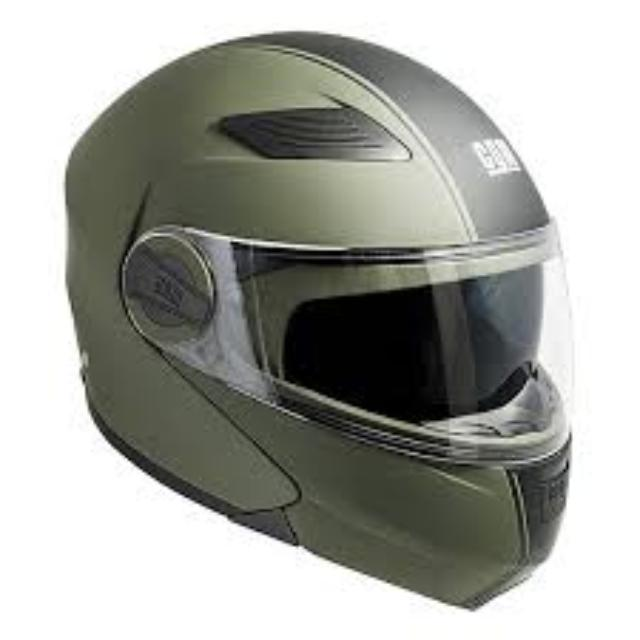motorcycle-helmets: (51, 27, 591, 617)
